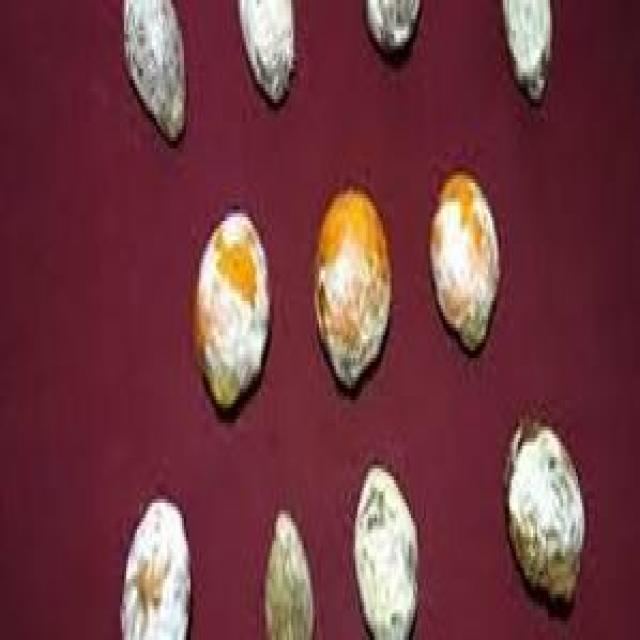damaged: (310, 187, 394, 400), (193, 210, 272, 423), (505, 423, 586, 617), (428, 171, 501, 358), (353, 461, 422, 636), (122, 0, 188, 149), (120, 503, 193, 636), (235, 0, 295, 110), (265, 514, 315, 636), (499, 0, 552, 110), (362, 0, 424, 69)
